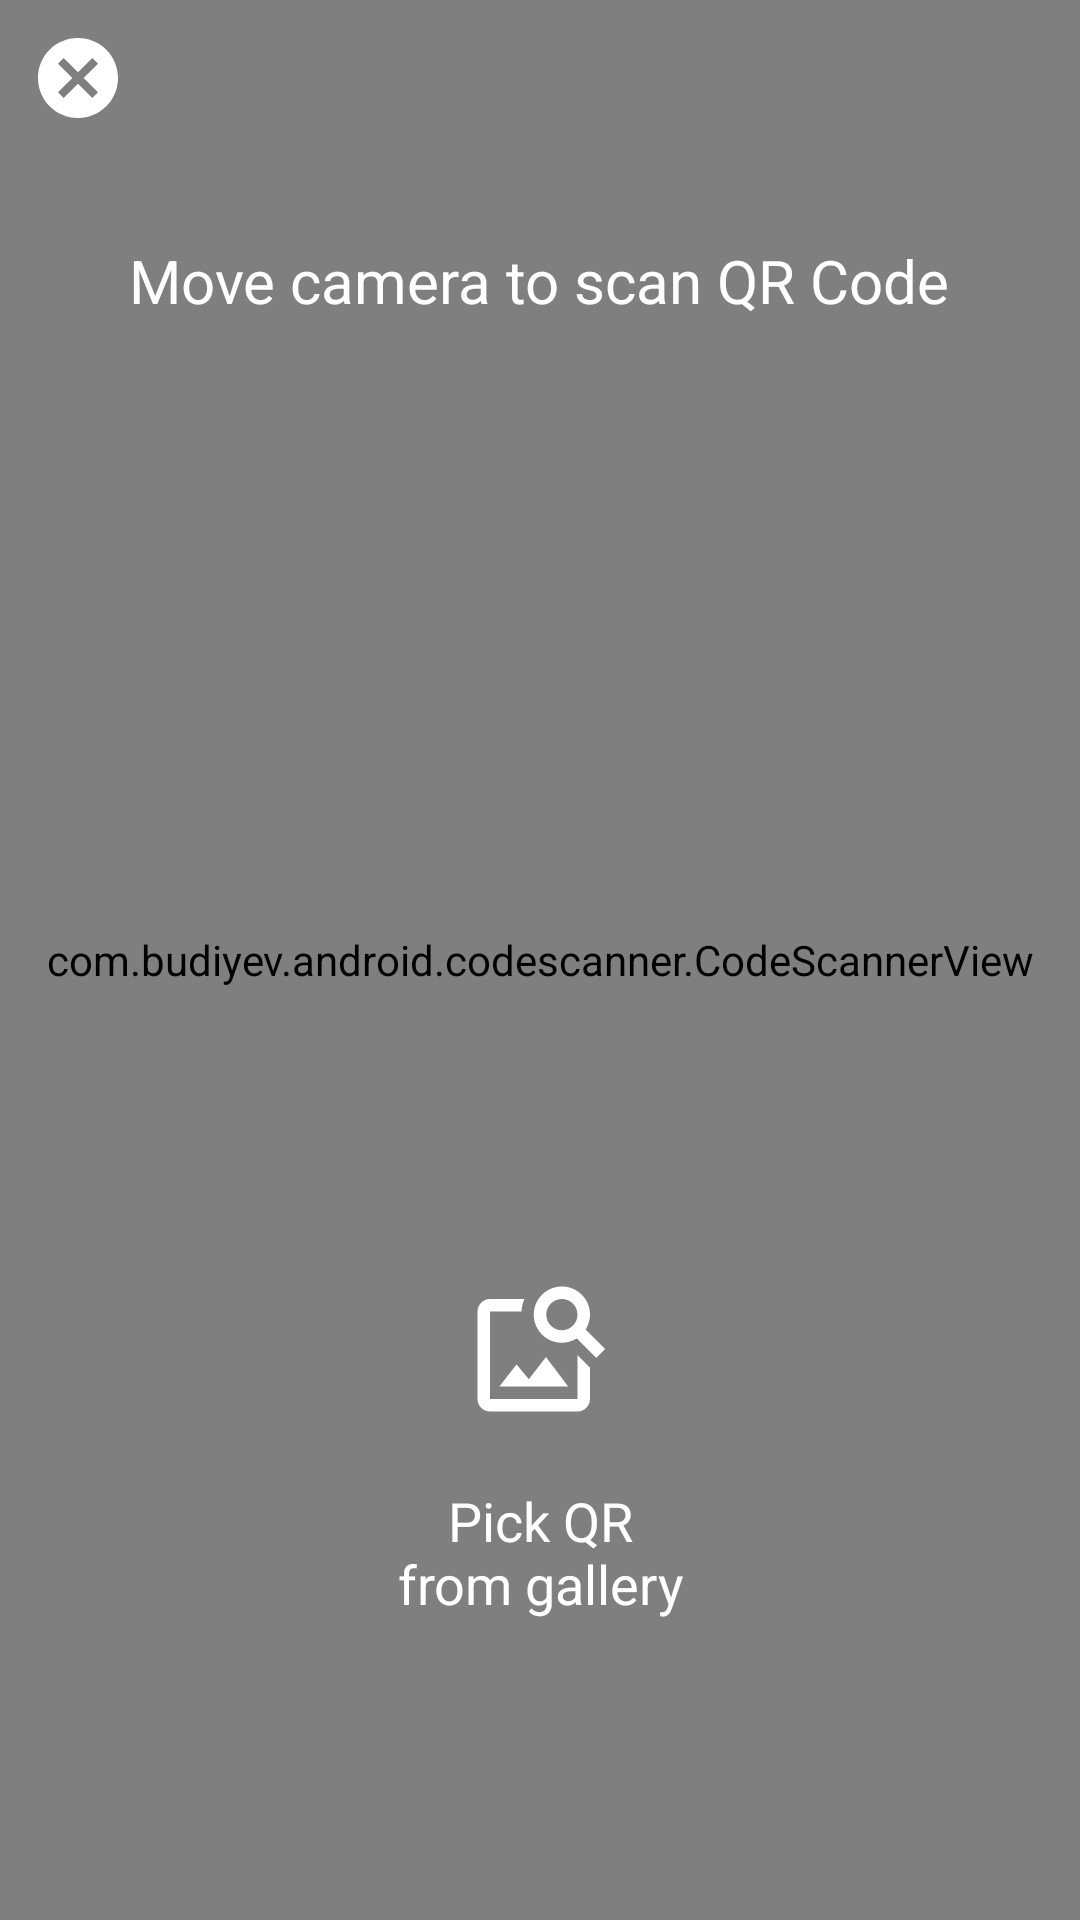

Screen size 1080*1920. Icon name, then its box in pixels as (x1, y1, x2, y2):
cancel: (38, 38, 118, 118)
